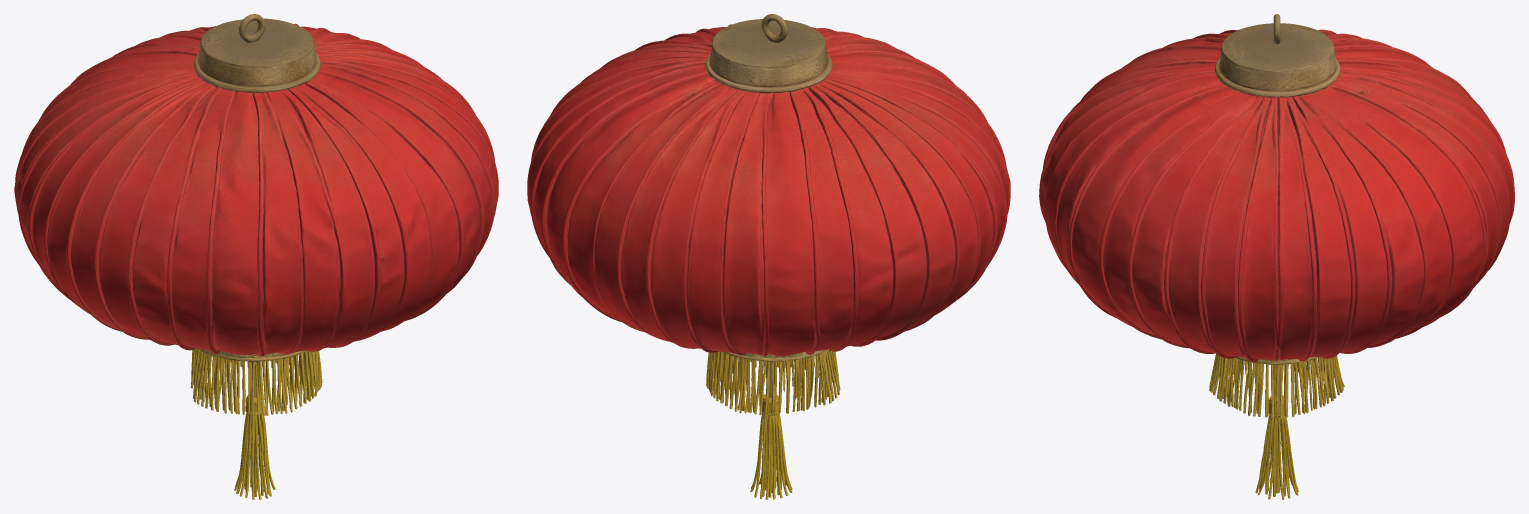
The model's file is lanterns.glb.
3 renders of one model, left to right at view 1: azimuth 30°, elevation 25°; view 2: azimuth 150°, elevation 25°; view 3: azimuth 270°, elevation 25°, orthographic.
Parts seen in each view (by area): view 1: model; view 2: model; view 3: model.
Boxes of the visible parts, x1,y1,x2,y2 form: model: (14, 14, 498, 499); model: (527, 14, 1010, 499); model: (1039, 14, 1514, 499).
Size of the model in its own units: 1.75 by 1.9 by 1.72.
Materials: 1 (1 with a texture image).
